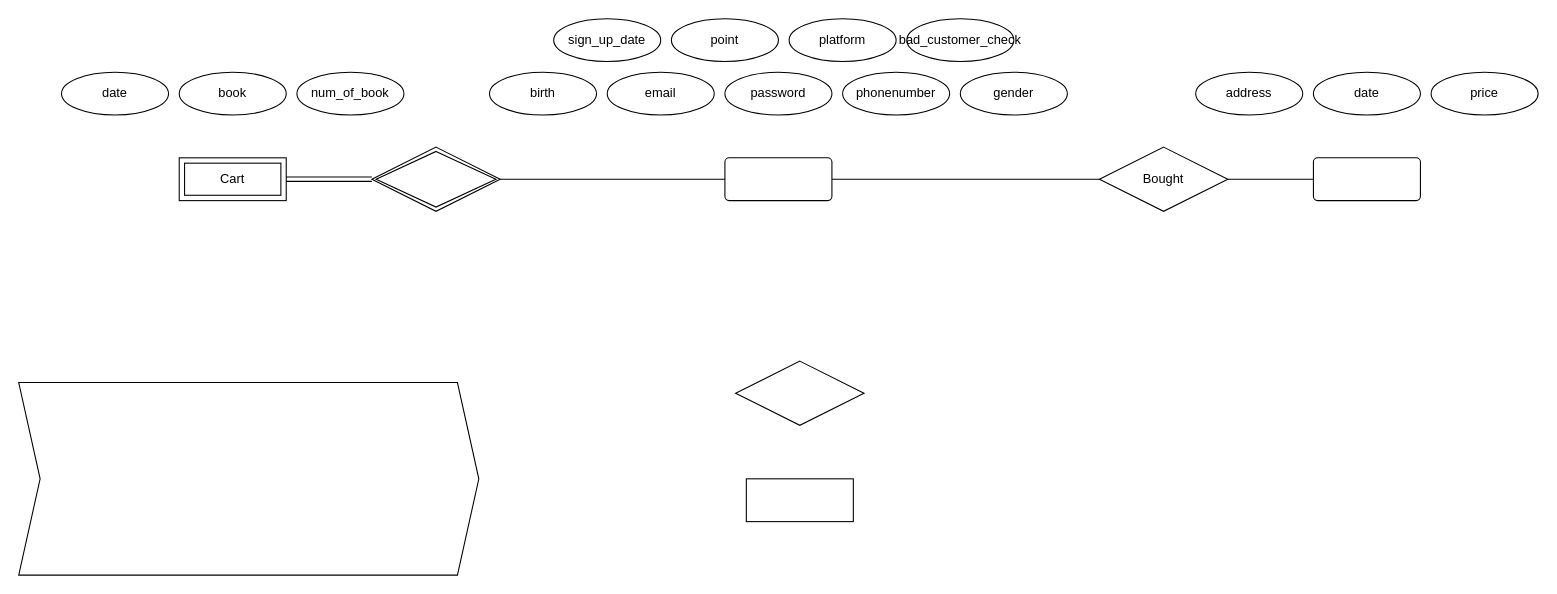
The diagram is 1557 pixels wide and 594 high, and some of its shapes have lost their labels. The shapes that lost their labels are listed below. From the top down, each one's box as (x1, y1, x2, y2) in pixels, then its label:
(371, 146, 500, 211): Reserved
(724, 157, 832, 201): Customer
(1312, 157, 1420, 201): Order
(735, 360, 864, 425): Selled
(18, 381, 479, 575): key 정하기 책과 고객(고객이 사거나 담아놓은 것) 사이 관계
(745, 478, 853, 522): Book_store
